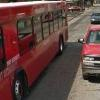Bus: (2, 0, 71, 92)
